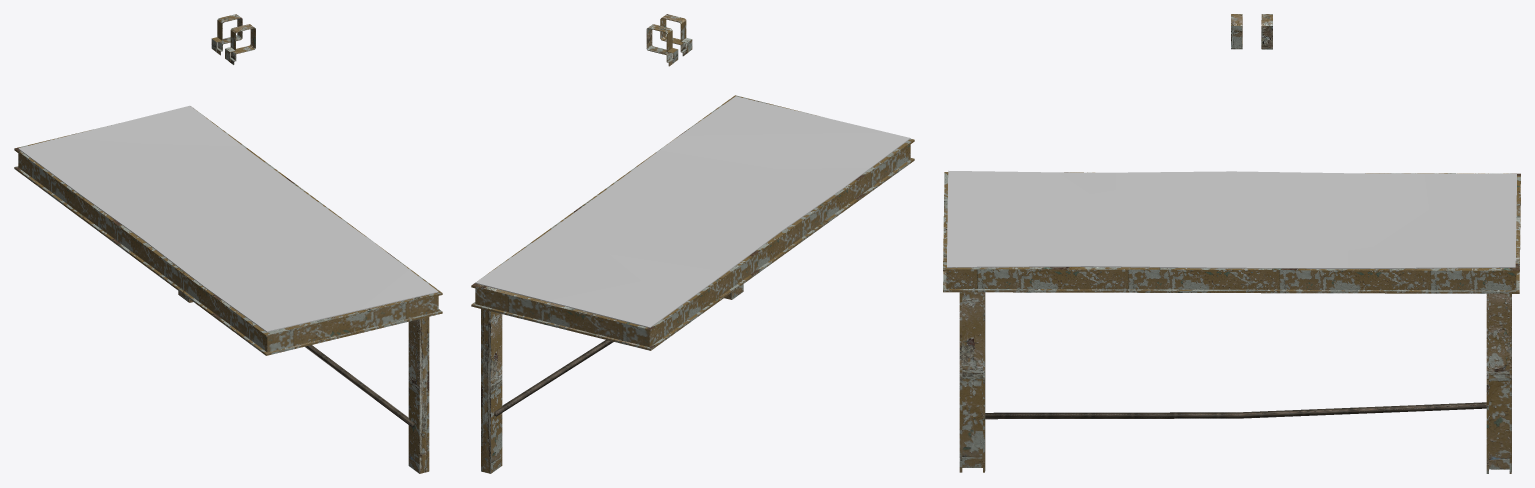
Rendered from MetalTable.fbx.
The picture shows the model from 3 angles, left to right: view 1: azimuth 30°, elevation 25°; view 2: azimuth 150°, elevation 25°; view 3: azimuth 270°, elevation 25°; orthographic projection. The views are drawn at different scales.
Parts seen in each view (by area): view 1: mesh_3.420, mesh_1.2027, mesh_5.153; view 2: mesh_3.420, mesh_1.2027, mesh_5.153; view 3: mesh_3.420, mesh_1.2027, mesh_5.153.
Part boxes in pixels (box(x1,y1,x2,y2)): mesh_3.420: box(18, 105, 438, 331); mesh_1.2027: box(14, 14, 442, 473); mesh_5.153: box(305, 345, 414, 427); mesh_3.420: box(475, 96, 910, 327); mesh_1.2027: box(471, 14, 914, 473); mesh_5.153: box(494, 340, 613, 416); mesh_3.420: box(947, 170, 1516, 268); mesh_1.2027: box(943, 14, 1520, 473); mesh_5.153: box(985, 402, 1486, 419).
Bounding box in the file's own units: 1.02 × 2.01 × 2.52.
